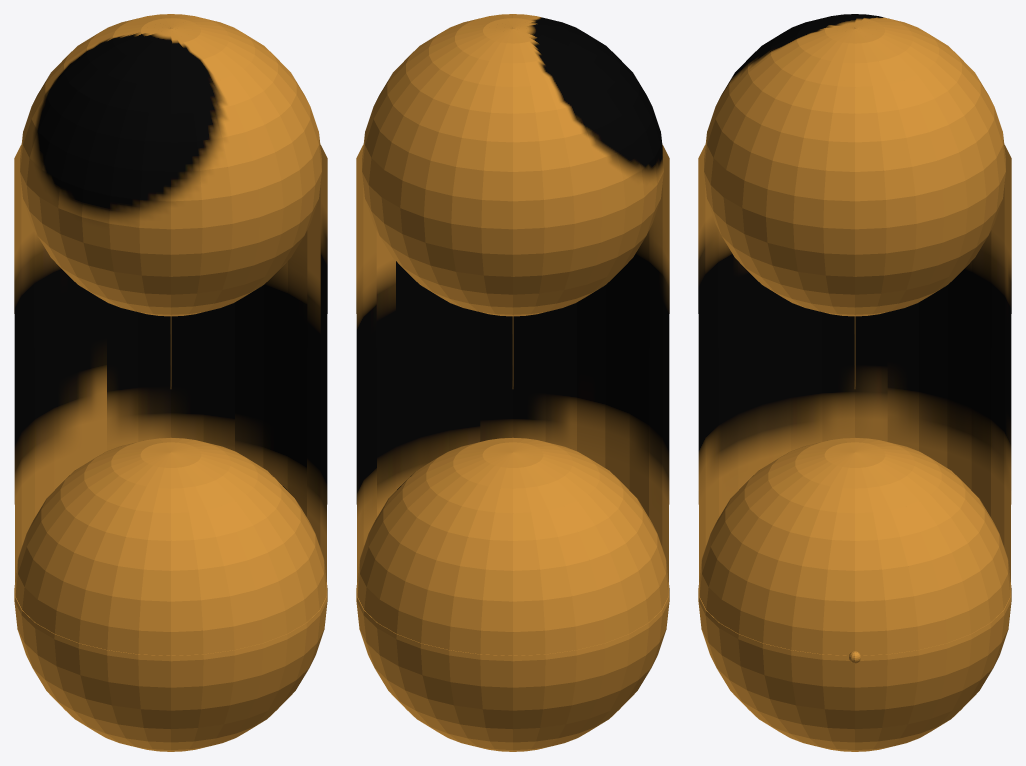
3 renders of one model, left to right at view 1: azimuth 30°, elevation 25°; view 2: azimuth 150°, elevation 25°; view 3: azimuth 270°, elevation 25°, orthographic.
Parts seen in each view (by area): view 1: algeomath; view 2: algeomath; view 3: algeomath.
Boxes of the visible parts, x1,y1,x2,y2 form: algeomath: [14, 14, 327, 751]; algeomath: [356, 14, 669, 751]; algeomath: [698, 14, 1011, 751].
Bounding box in the file's own units: 0.1241 × 0.3 × 0.1202.
1 material, 1 textured.
